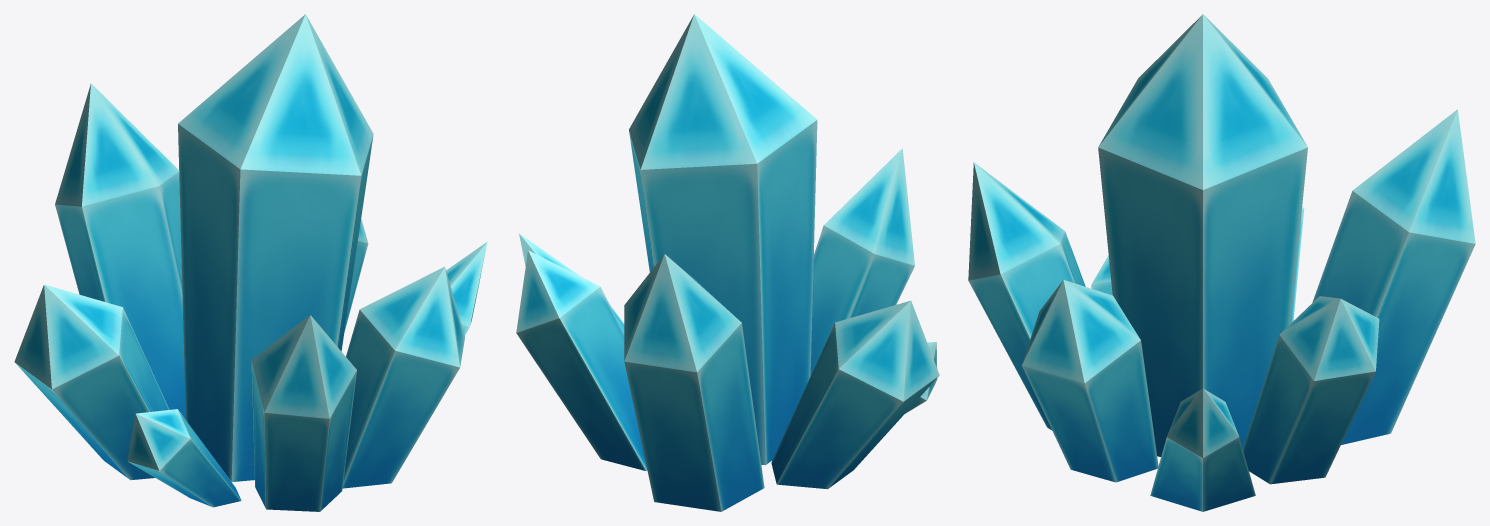
File: CrystalOre_01_a.fbx
3 views of the same model, side by side, from view 1: azimuth 30°, elevation 25°; view 2: azimuth 150°, elevation 25°; view 3: azimuth 270°, elevation 25° (orthographic). The views are drawn at different scales.
Parts seen in each view (by area): view 1: CrystalOre_01_a; view 2: CrystalOre_01_a; view 3: CrystalOre_01_a.
Boxes of the visible parts, x1=… form: CrystalOre_01_a: x1=14, y1=14, x2=487, y2=511; CrystalOre_01_a: x1=516, y1=14, x2=939, y2=511; CrystalOre_01_a: x1=968, y1=14, x2=1475, y2=511.
Bounding box in the file's own units: 82.19 × 77.11 × 79.79.
1 material, 1 textured.
